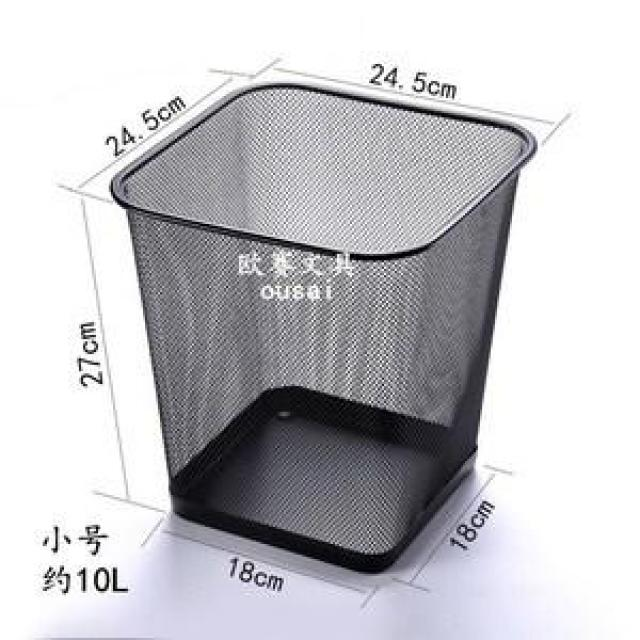Dustbin: (105, 74, 543, 581)
